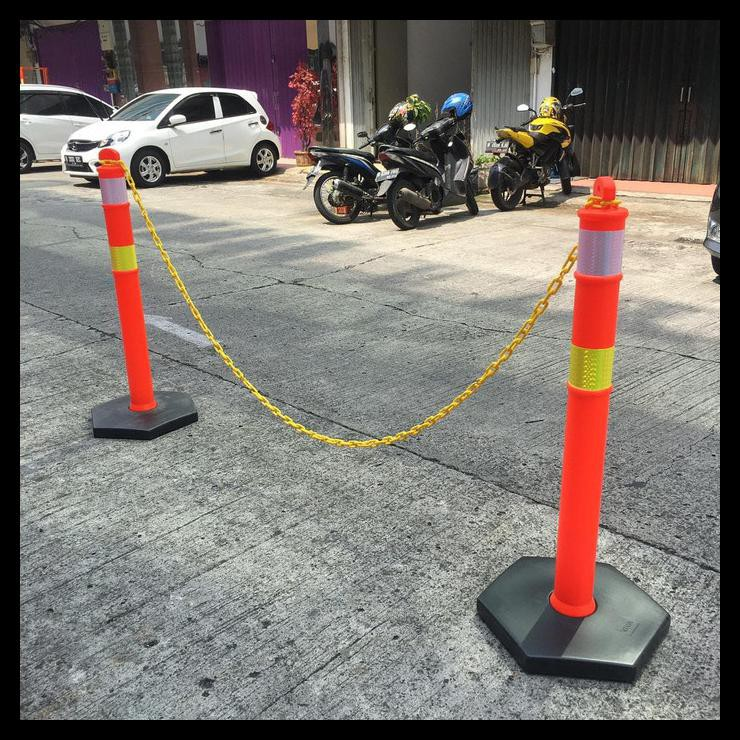bollard: (549, 155, 636, 620), (79, 151, 161, 419)
